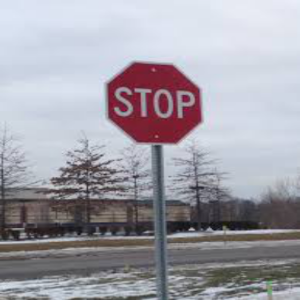STOP_SIGN: (104, 61, 204, 144)
